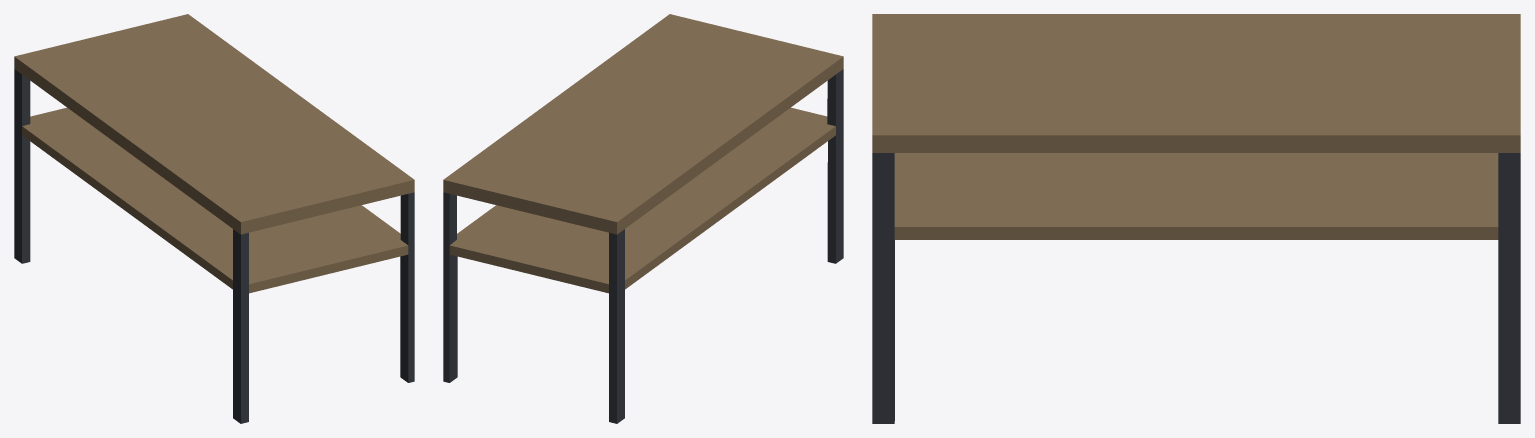
The model's file is Desk.fbx.
3 views of the same model, side by side, from view 1: azimuth 30°, elevation 25°; view 2: azimuth 150°, elevation 25°; view 3: azimuth 270°, elevation 25° (orthographic). The views are drawn at different scales.
Parts seen in each view (by area): view 1: Desk; view 2: Desk; view 3: Desk.
Boxes of the visible parts, bbox=[...] form: Desk: bbox=[14, 14, 414, 423]; Desk: bbox=[443, 14, 843, 423]; Desk: bbox=[872, 14, 1520, 423].
Size of the model in its own units: 40.67 by 45.1 by 91.78.
